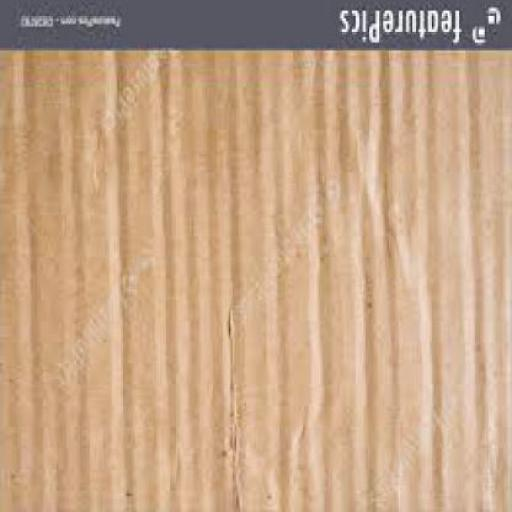cardboard: (1, 51, 512, 512)
